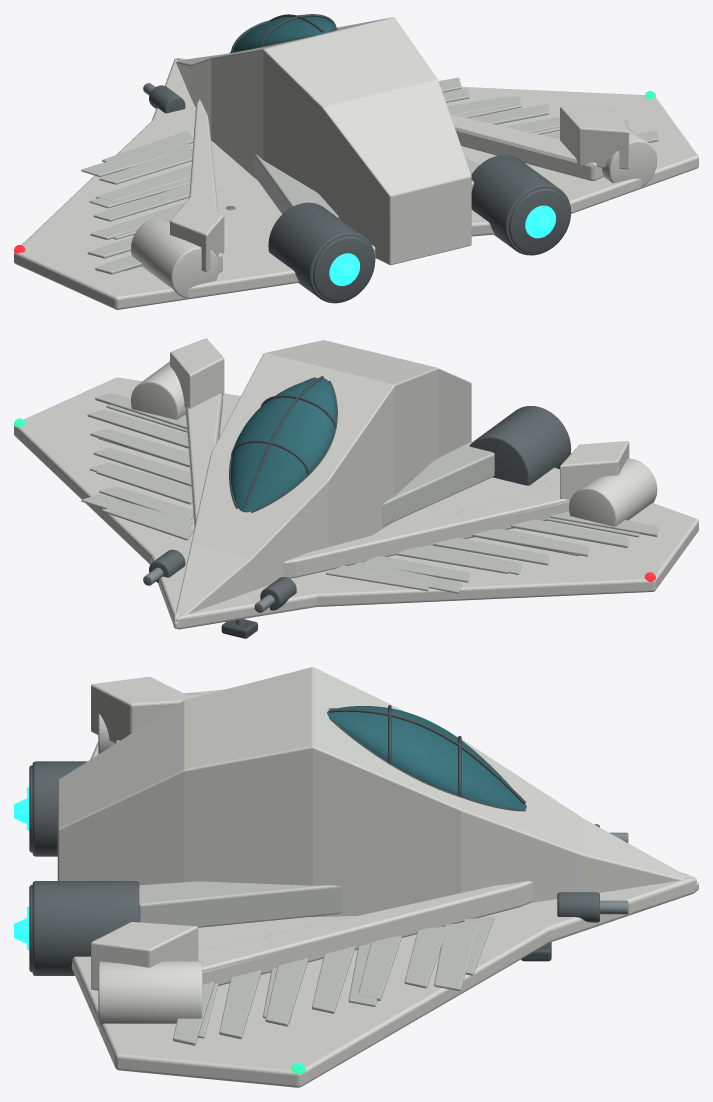
Rendered from zenith_authored_art.glb.
The picture shows the model from 3 angles, top to bottom: view 1: azimuth 30°, elevation 25°; view 2: azimuth 150°, elevation 25°; view 3: azimuth 270°, elevation 25°; orthographic projection. The views are drawn at different scales.
Visible parts, largest first — view 1: SourceCoreLOD0StaticBatch_PaleCeramicHull, SourceCoreLOD1StaticBatch_PaleCeramicHull, SourceCoreLOD0StaticBatch_PaleFacetSecondary, ModernSystemsLOD0StaticBatch_EngineGraphite, ModernSystemsLOD1StaticBatch_EngineGraphite, SourceCoreLOD1StaticBatch_PaleFacetSecondary, CanopyGlassShell, ModernSystemsLOD0StaticBatch_EngineEmission, ModernSystemsCanopyPivotStaticBatch_GraphitePanel; view 2: SourceCoreLOD0StaticBatch_PaleCeramicHull, SourceCoreLOD1StaticBatch_PaleCeramicHull, SourceCoreLOD0StaticBatch_PaleFacetSecondary, CanopyGlassShell, ModernSystemsLOD0StaticBatch_EngineGraphite, SourceCoreLOD1StaticBatch_PaleFacetSecondary, ModernSystemsCanopyPivotStaticBatch_GraphitePanel, ModernSystemsLOD0StaticBatch_ExposedAlloy, ModernSystemsLOD0StaticBatch_GraphitePanel; view 3: SourceCoreLOD0StaticBatch_PaleCeramicHull, SourceCoreLOD0StaticBatch_PaleFacetSecondary, SourceCoreLOD1StaticBatch_PaleCeramicHull, ModernSystemsLOD0StaticBatch_EngineGraphite, CanopyGlassShell, SourceCoreLOD1StaticBatch_PaleFacetSecondary, ModernSystemsCanopyPivotStaticBatch_GraphitePanel, ModernSystemsLOD1StaticBatch_EngineGraphite.
Part boxes in pixels (x1,y1,x2,y2): SourceCoreLOD0StaticBatch_PaleCeramicHull: [14, 17, 698, 309]; SourceCoreLOD1StaticBatch_PaleCeramicHull: [16, 54, 697, 307]; SourceCoreLOD0StaticBatch_PaleFacetSecondary: [87, 88, 658, 274]; ModernSystemsLOD0StaticBatch_EngineGraphite: [149, 85, 571, 303]; ModernSystemsLOD1StaticBatch_EngineGraphite: [313, 188, 569, 301]; SourceCoreLOD1StaticBatch_PaleFacetSecondary: [81, 77, 559, 270]; CanopyGlassShell: [233, 15, 336, 51]; ModernSystemsLOD0StaticBatch_EngineEmission: [329, 205, 555, 285]; ModernSystemsCanopyPivotStaticBatch_GraphitePanel: [229, 14, 337, 53]; SourceCoreLOD0StaticBatch_PaleCeramicHull: [14, 338, 698, 629]; SourceCoreLOD1StaticBatch_PaleCeramicHull: [20, 362, 679, 627]; SourceCoreLOD0StaticBatch_PaleFacetSecondary: [87, 393, 658, 591]; CanopyGlassShell: [230, 378, 336, 512]; ModernSystemsLOD0StaticBatch_EngineGraphite: [149, 406, 571, 610]; SourceCoreLOD1StaticBatch_PaleFacetSecondary: [81, 404, 639, 593]; ModernSystemsCanopyPivotStaticBatch_GraphitePanel: [229, 376, 337, 512]; ModernSystemsLOD0StaticBatch_ExposedAlloy: [143, 567, 274, 624]; ModernSystemsLOD0StaticBatch_GraphitePanel: [221, 619, 257, 638]; SourceCoreLOD0StaticBatch_PaleCeramicHull: [57, 667, 698, 1087]; SourceCoreLOD0StaticBatch_PaleFacetSecondary: [139, 881, 494, 1045]; SourceCoreLOD1StaticBatch_PaleCeramicHull: [72, 690, 695, 1084]; ModernSystemsLOD0StaticBatch_EngineGraphite: [32, 761, 599, 975]; CanopyGlassShell: [327, 706, 526, 809]; SourceCoreLOD1StaticBatch_PaleFacetSecondary: [198, 921, 478, 1038]; ModernSystemsCanopyPivotStaticBatch_GraphitePanel: [328, 705, 525, 811]; ModernSystemsLOD1StaticBatch_EngineGraphite: [29, 765, 32, 972].
Bounding box in the file's own units: 14.4 × 4.25 × 10.65.
